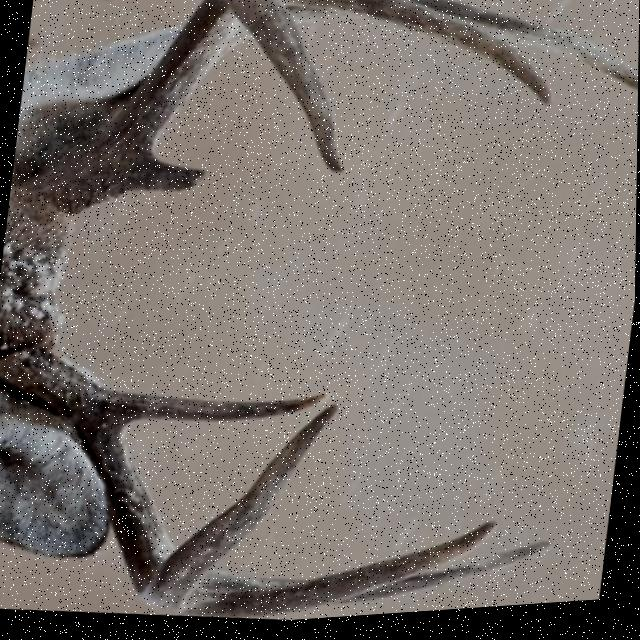L-F: (0, 344, 340, 618)
L-G1: (114, 393, 333, 427)
L-G3: (182, 526, 499, 622)
R-F: (16, 0, 344, 217)
R-G1: (127, 157, 207, 194)
R-G3: (274, 0, 552, 113)
